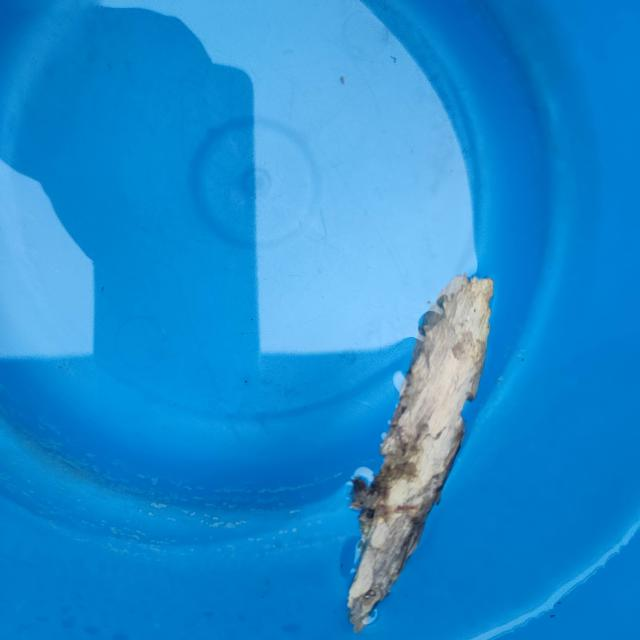litter: (340, 235, 510, 628)
